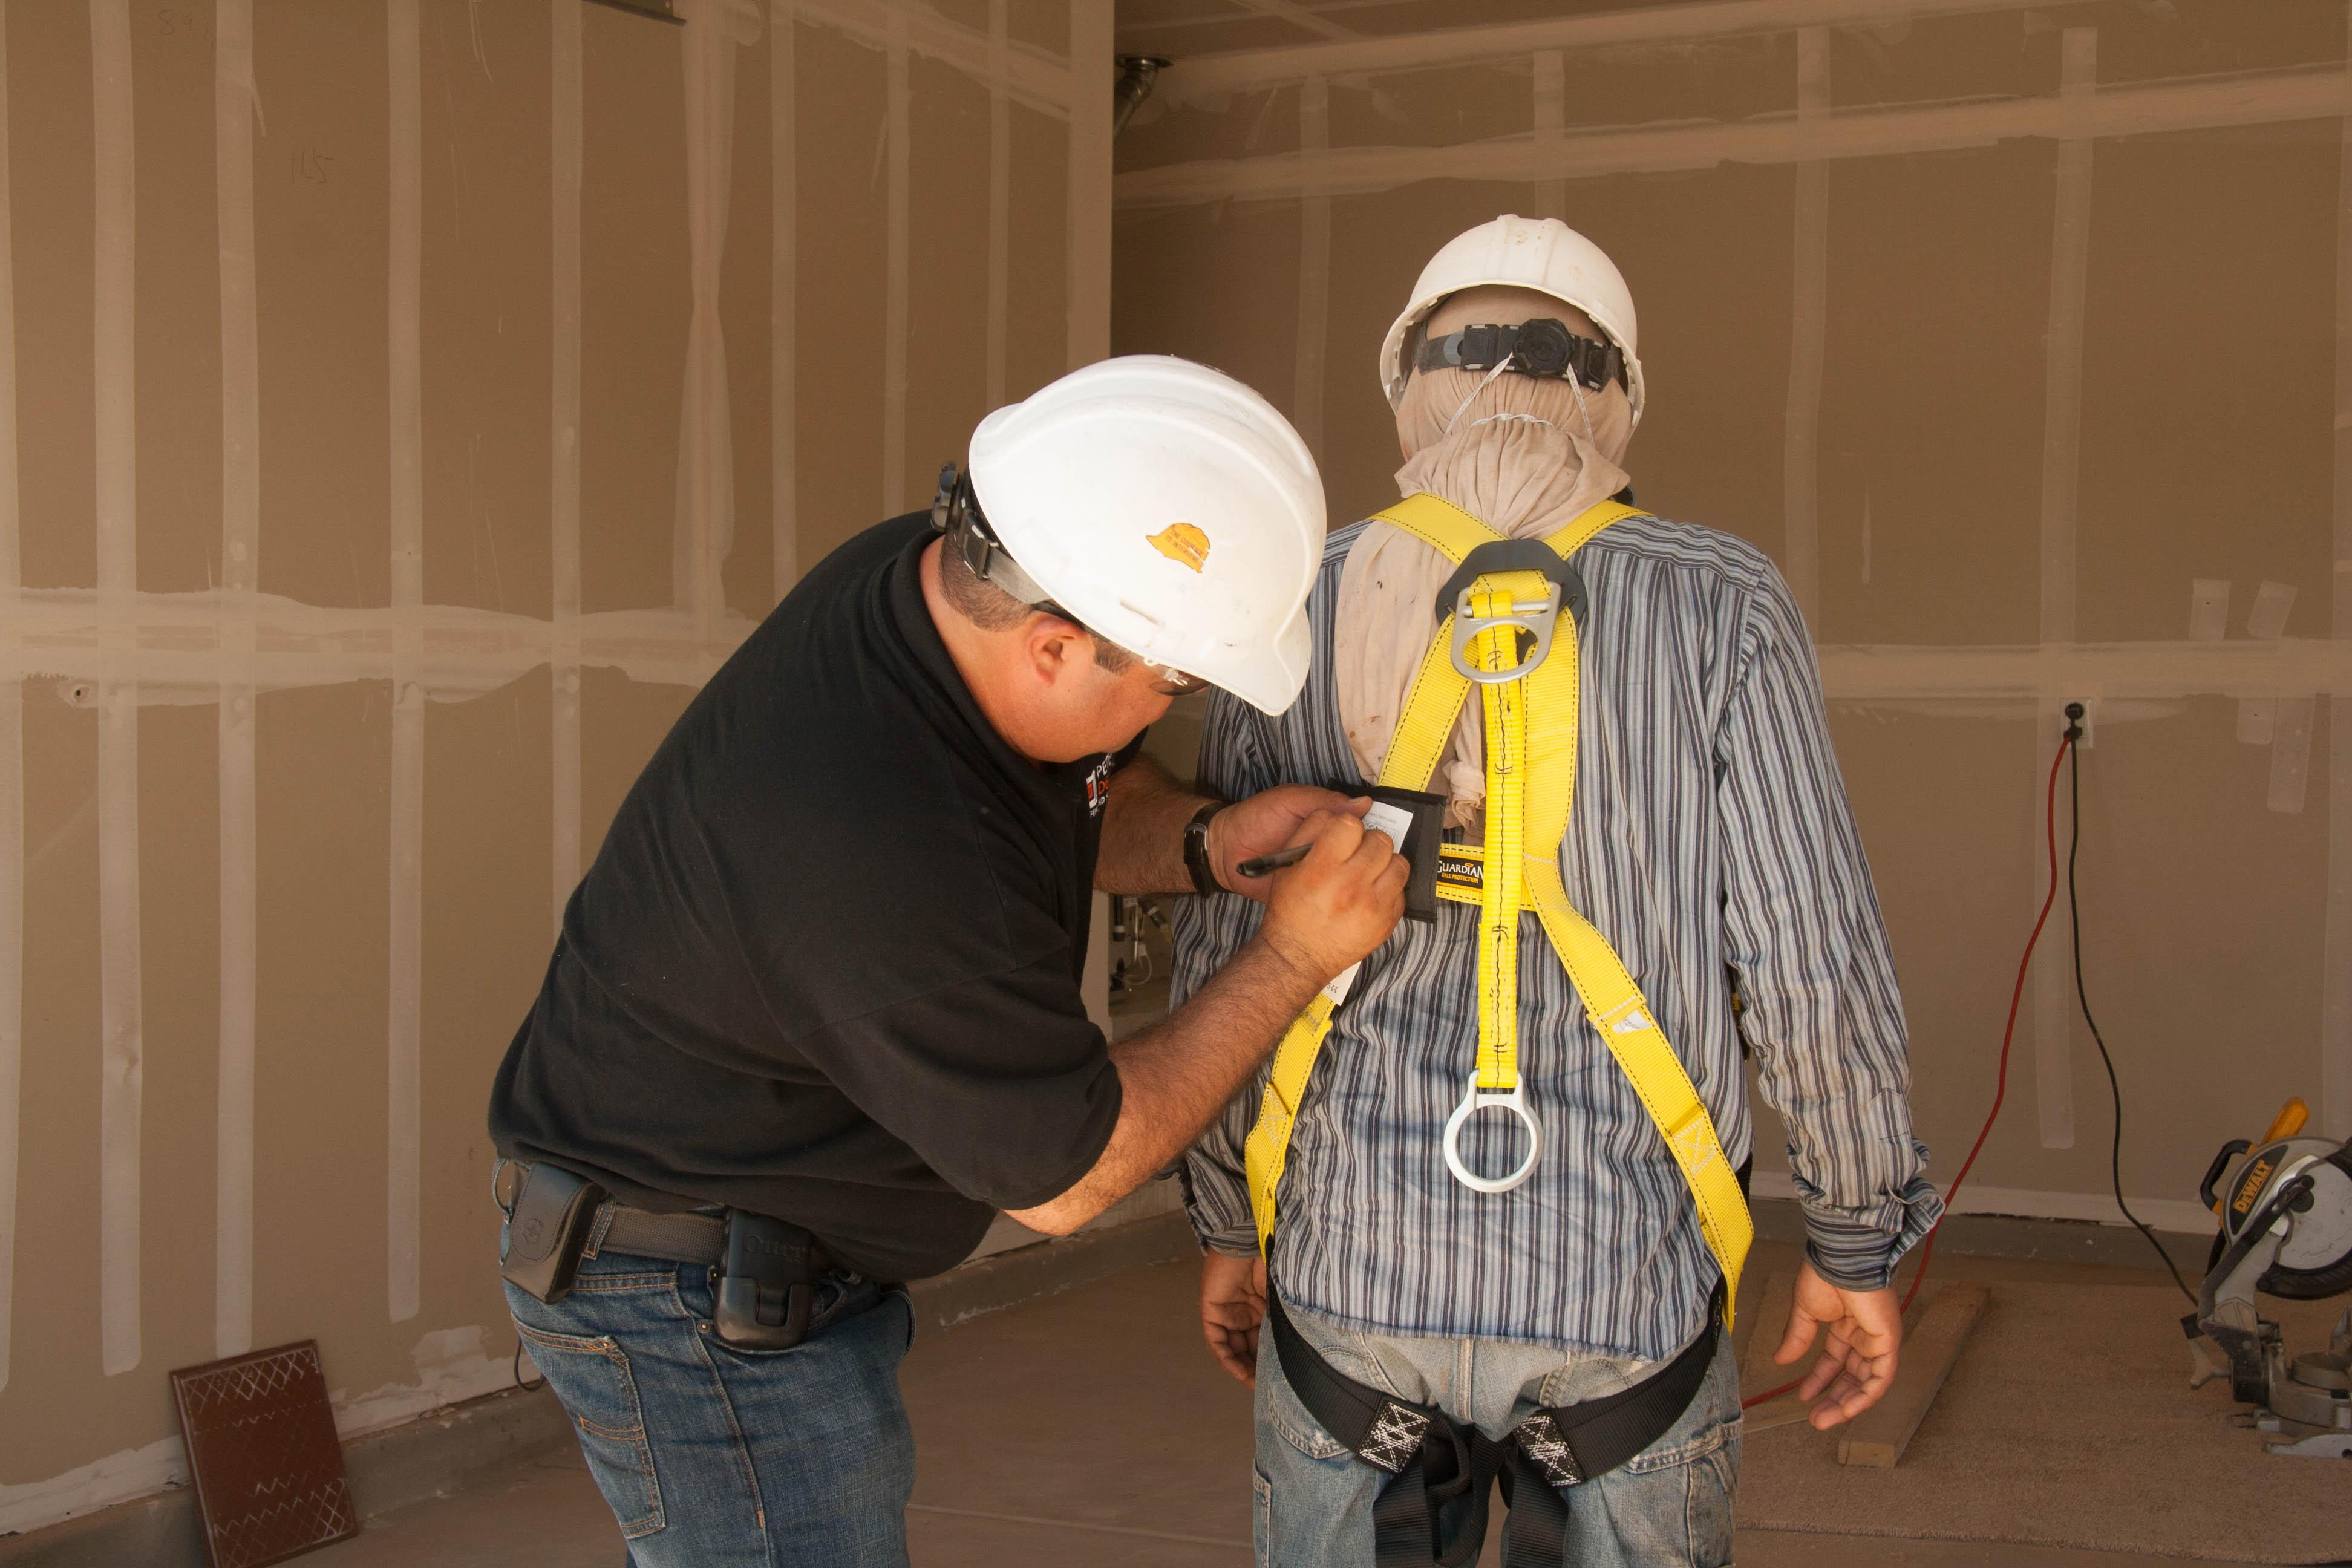helmet: (980, 345, 1337, 712), (1377, 212, 1654, 411)
